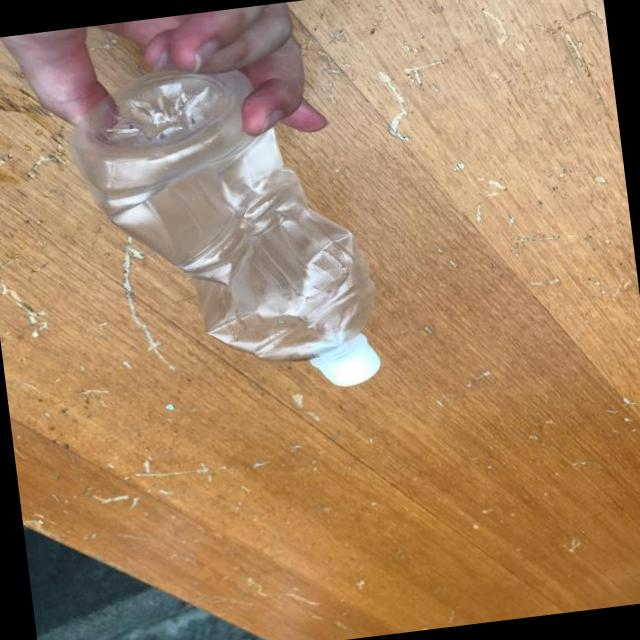plastic_bottle: (62, 47, 384, 415)
